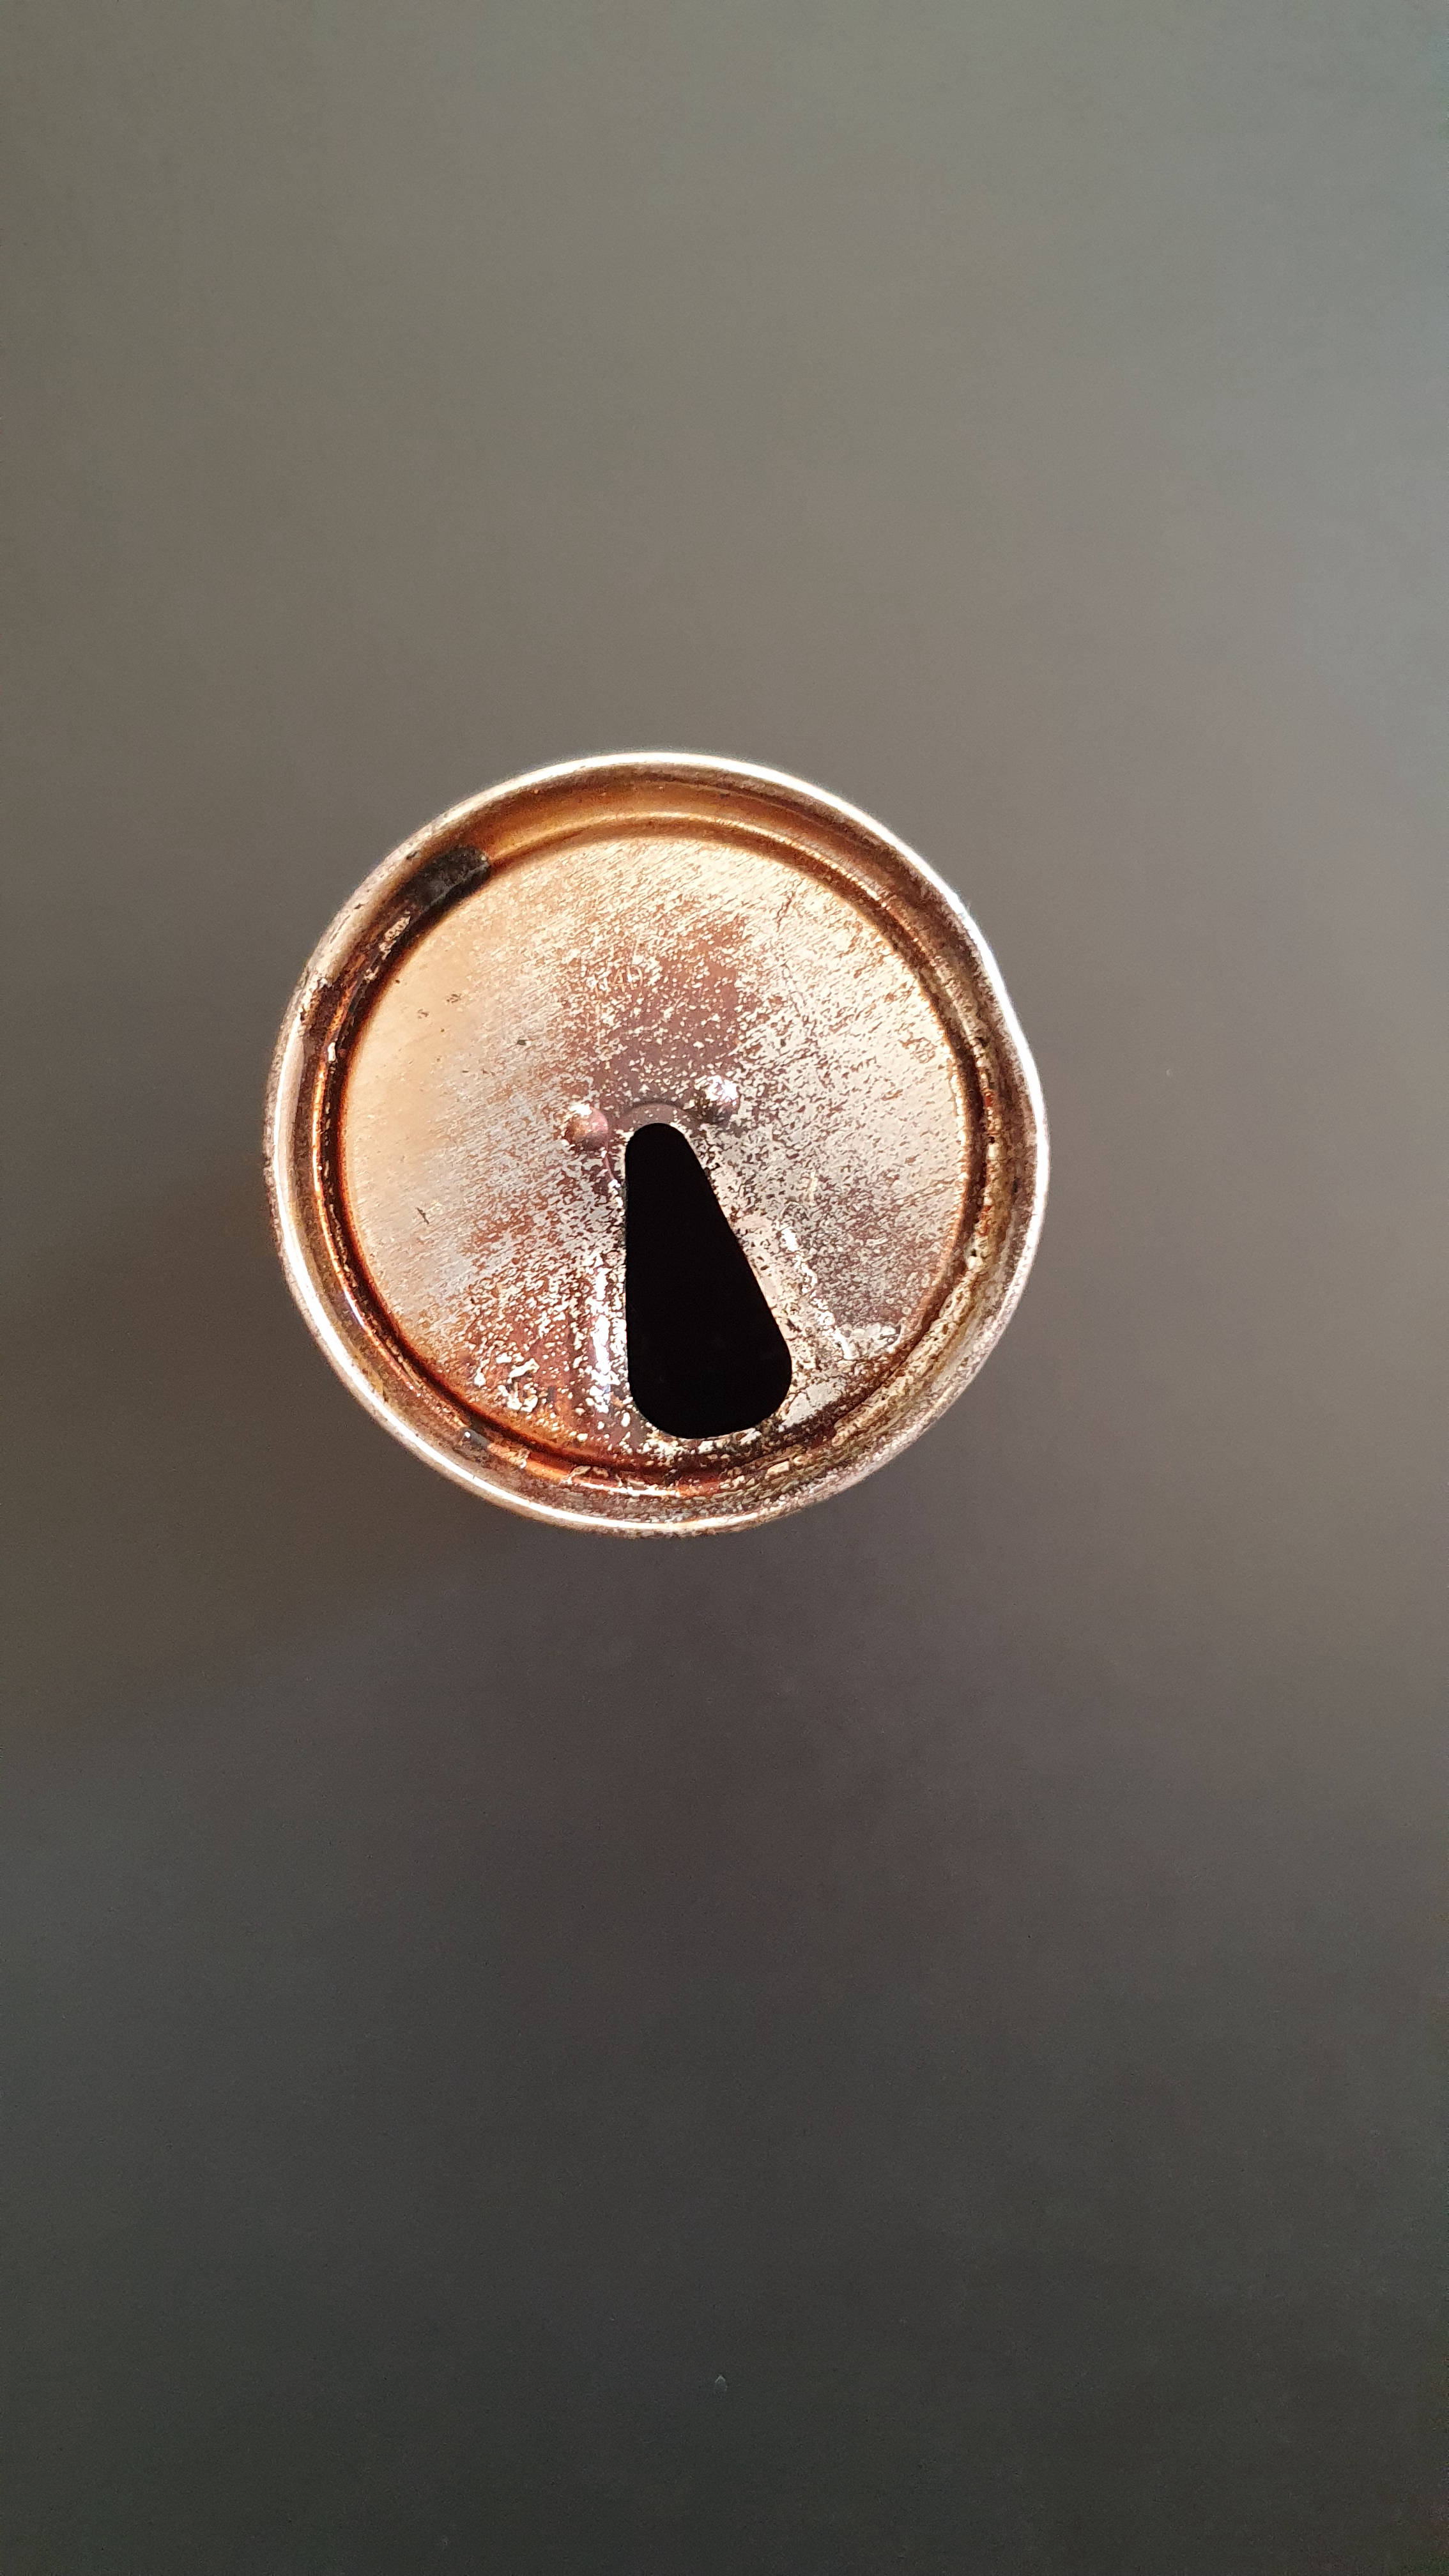metal: (237, 708, 1113, 1587)
